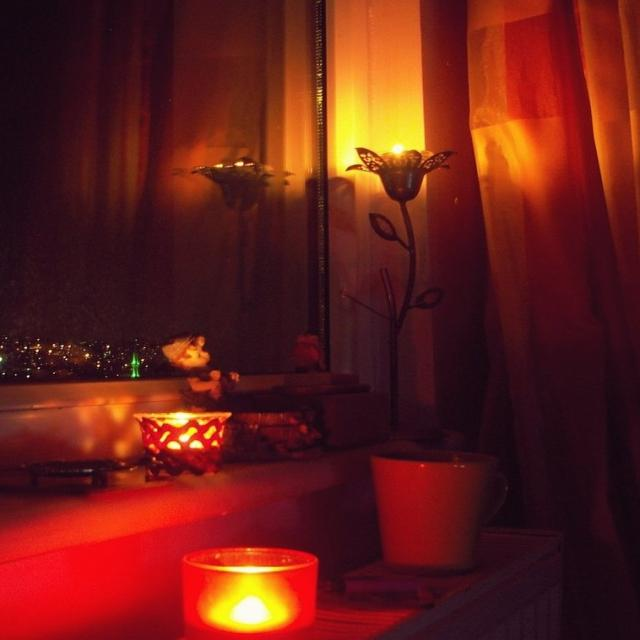Cup: (379, 427, 516, 599), (114, 393, 254, 496)
Table: (0, 398, 633, 640)
